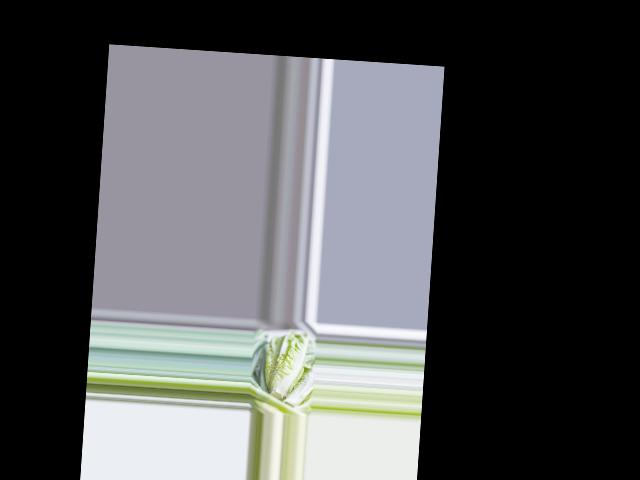lettuce: (262, 329, 310, 401)
